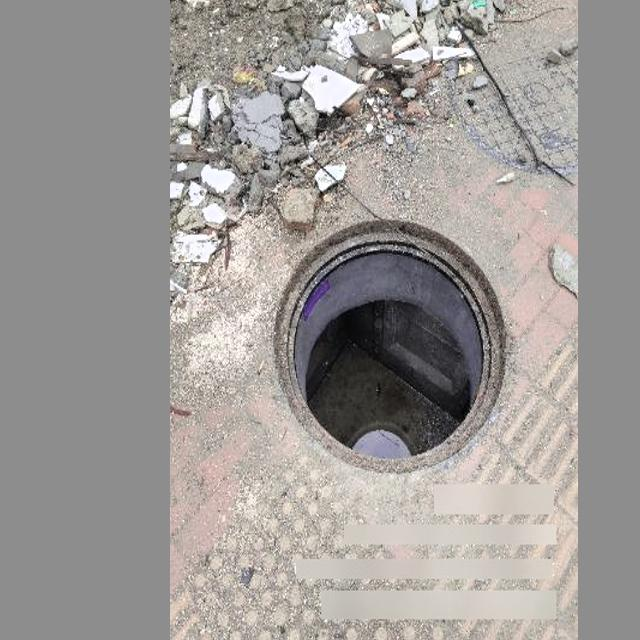lose: (276, 218, 505, 472)
